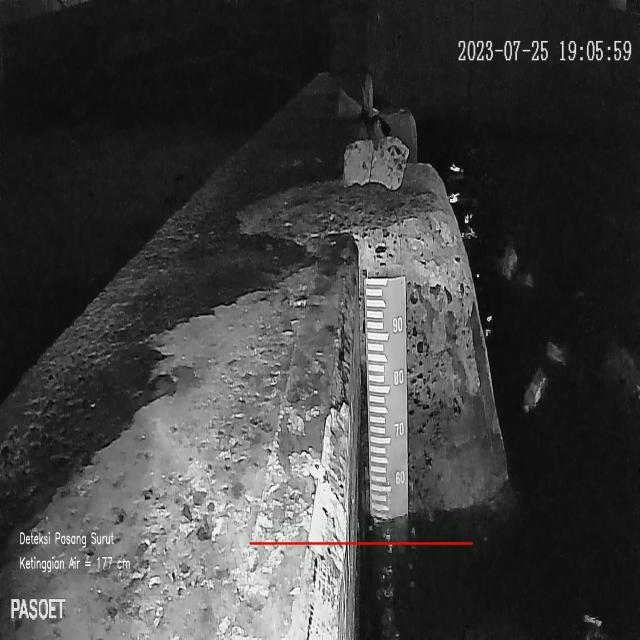water-meter: (358, 264, 417, 536)
